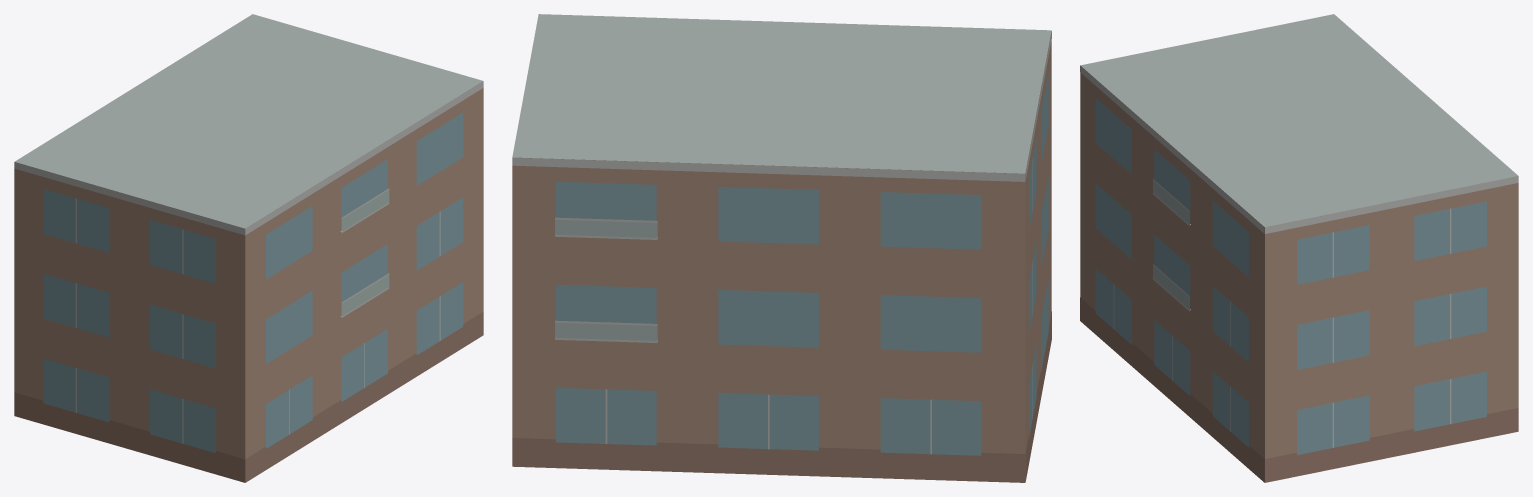
The model's file is survey-upis-32928062.glb.
3 views of the same model, side by side, from view 1: azimuth 30°, elevation 25°; view 2: azimuth 150°, elevation 25°; view 3: azimuth 270°, elevation 25° (orthographic). The views are drawn at different scales.
Parts seen in each view (by area): view 1: survey-upis-32928062.tmp; view 2: survey-upis-32928062.tmp; view 3: survey-upis-32928062.tmp.
Boxes of the visible parts, bbox=[...] form: survey-upis-32928062.tmp: bbox=[14, 14, 483, 482]; survey-upis-32928062.tmp: bbox=[512, 14, 1051, 482]; survey-upis-32928062.tmp: bbox=[1080, 14, 1518, 482].
Size of the model in its own units: 16.38 by 9.15 by 14.24.
